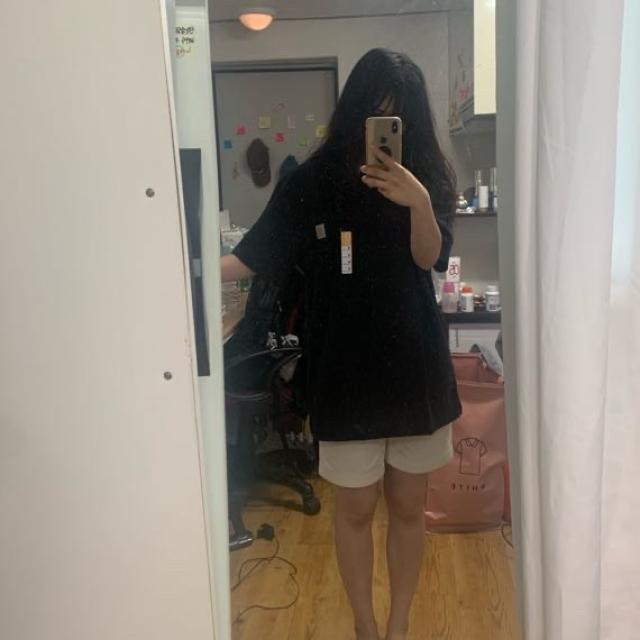shortpants: (317, 412, 454, 493)
shortsleeve: (238, 152, 461, 440)
